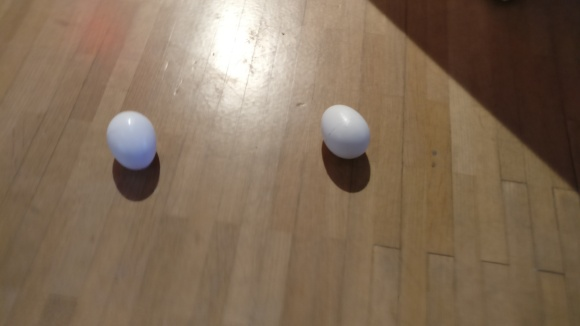egg: (321, 103, 372, 162), (107, 112, 157, 170)
